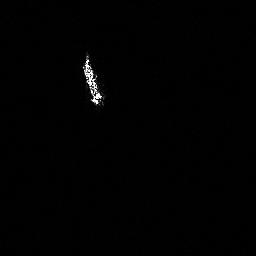ship: (79, 49, 107, 110)
